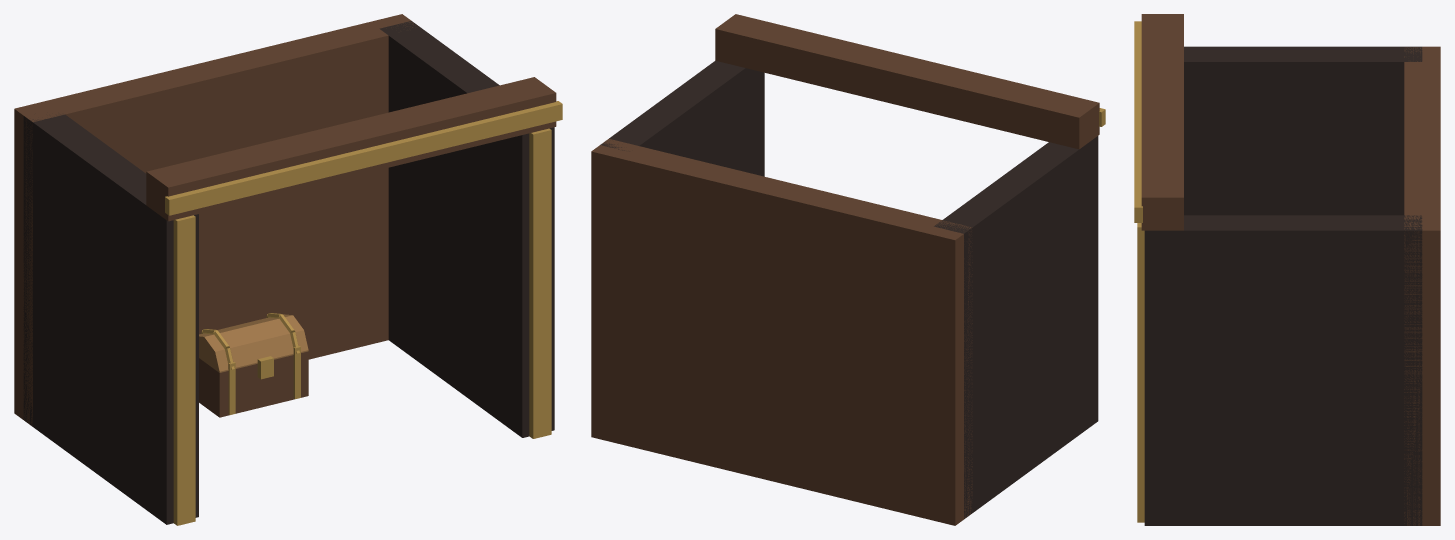
File: PirateCove_TreasureAlcove_Simple.glb
3 renders of one model, left to right at view 1: azimuth 30°, elevation 25°; view 2: azimuth 150°, elevation 25°; view 3: azimuth 270°, elevation 25°, orthographic. The views are drawn at different scales.
Parts seen in each view (by area): view 1: PirateCove_TreasureAlcove_Simple; view 2: PirateCove_TreasureAlcove_Simple; view 3: PirateCove_TreasureAlcove_Simple.
Part boxes in pixels (x1=…): PirateCove_TreasureAlcove_Simple: x1=14, y1=14, x2=562, y2=525; PirateCove_TreasureAlcove_Simple: x1=591, y1=14, x2=1105, y2=525; PirateCove_TreasureAlcove_Simple: x1=1134, y1=14, x2=1440, y2=525.
Size of the model in its own units: 3.65 by 3 by 2.53.
